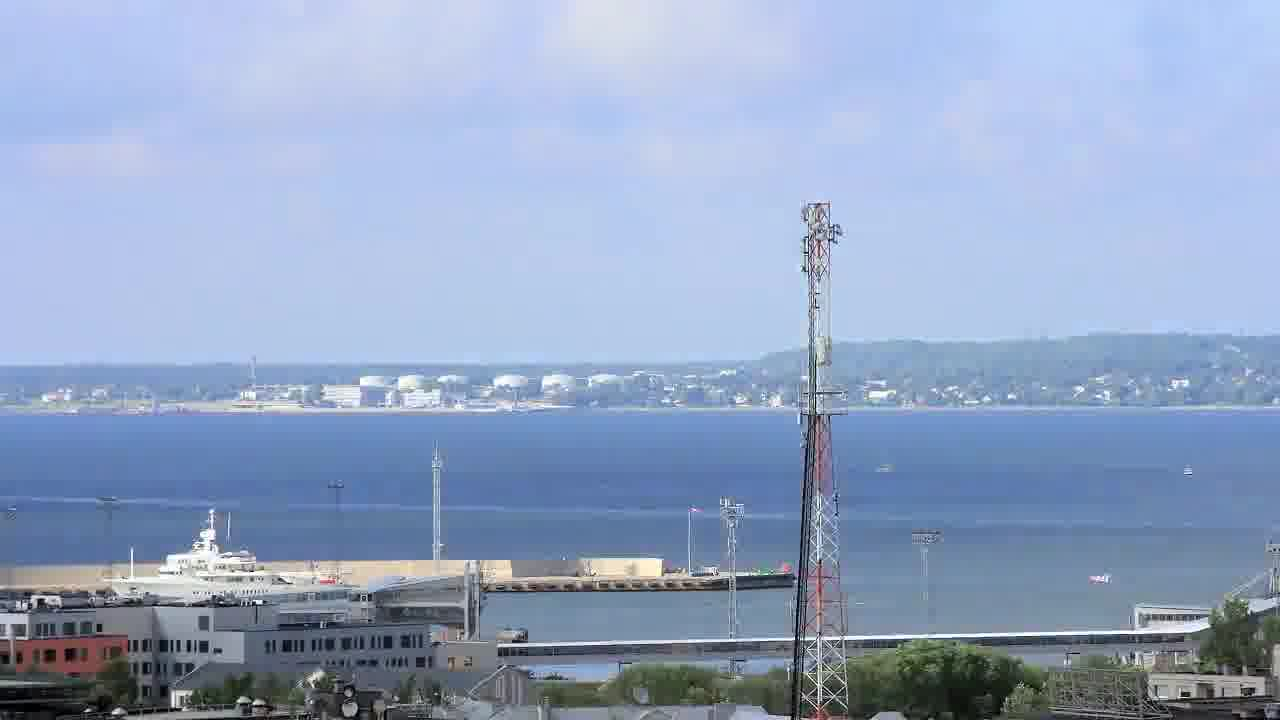type-3: (96, 508, 381, 605)
type-4: (1077, 554, 1119, 598), (1172, 453, 1206, 483)
